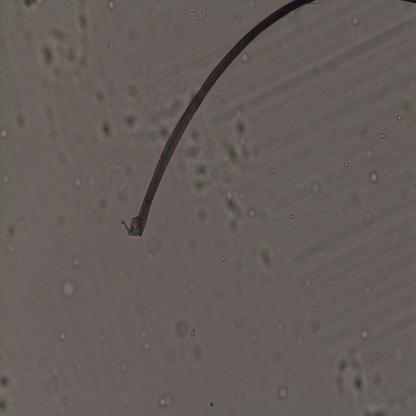Background material: (183, 114, 256, 226), (34, 13, 94, 87), (124, 75, 172, 143), (360, 376, 415, 416), (332, 347, 366, 407), (93, 59, 118, 114), (105, 160, 131, 211), (38, 98, 66, 142), (5, 215, 28, 255), (46, 362, 72, 396), (0, 368, 16, 416), (183, 0, 212, 26), (96, 115, 118, 146), (257, 244, 278, 273), (75, 174, 100, 193), (58, 278, 79, 300), (172, 318, 190, 339), (89, 201, 107, 222), (13, 110, 30, 132), (187, 343, 203, 366), (144, 242, 161, 262), (276, 382, 290, 405), (336, 7, 350, 30), (22, 368, 35, 392), (306, 316, 323, 334), (20, 0, 45, 12), (158, 393, 175, 410), (56, 150, 72, 166), (360, 280, 374, 298), (140, 327, 150, 352), (194, 204, 206, 224), (275, 318, 287, 336), (369, 169, 381, 185), (156, 214, 168, 230), (71, 255, 82, 271), (0, 126, 10, 143), (358, 327, 369, 342), (362, 209, 372, 225), (352, 10, 360, 30), (229, 320, 240, 334), (366, 144, 374, 162), (249, 332, 261, 344), (117, 361, 129, 373), (56, 405, 68, 416), (240, 53, 250, 66), (106, 0, 116, 12), (58, 331, 68, 343), (0, 172, 8, 186), (74, 365, 86, 374), (189, 325, 196, 339), (97, 332, 105, 344), (216, 313, 224, 323), (396, 111, 402, 123), (387, 169, 394, 179), (15, 174, 21, 184), (343, 159, 349, 169), (84, 332, 90, 341), (219, 253, 224, 263), (320, 86, 326, 94), (209, 400, 214, 409), (254, 300, 258, 311), (387, 232, 394, 238), (378, 258, 384, 265), (380, 133, 385, 140), (316, 298, 319, 308), (78, 138, 81, 144)
Cellulose filter fibre: (49, 210, 66, 229)
Microfibre: (126, 0, 315, 238)
